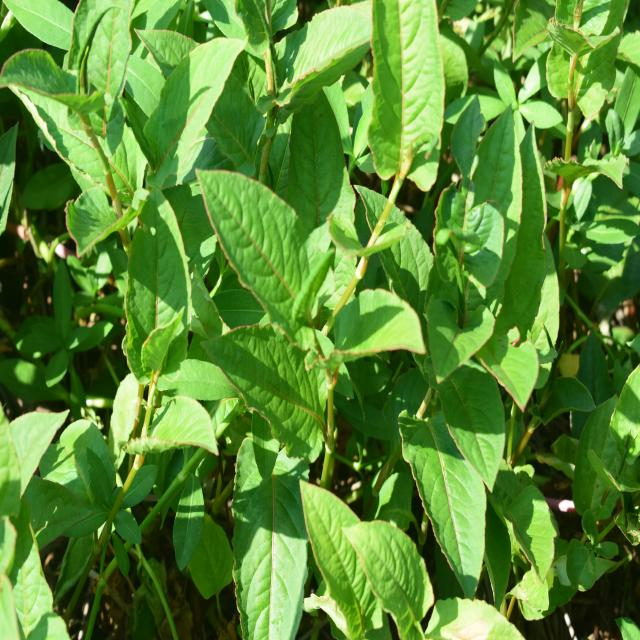Chinese_knotweed: (377, 92, 545, 446), (204, 153, 395, 457)
